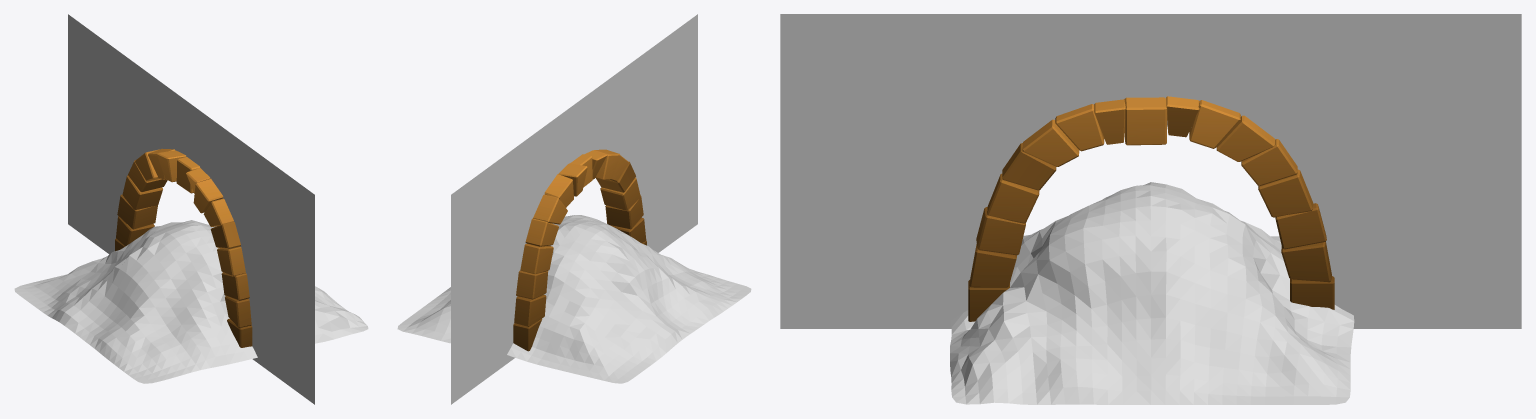
Rendered from GoldPile.fbx.
3 renders of one model, left to right at view 1: azimuth 30°, elevation 25°; view 2: azimuth 150°, elevation 25°; view 3: azimuth 270°, elevation 25°, orthographic. The views are drawn at different scales.
Visible parts, largest first — view 1: Plane.001, Plane, Cube.014, Cube.015, Cube.003, Cube.009, Cube.002, Cube.004, Cube.005, Cube.008, Cube.006, Cube.016 (+4 smaller); view 2: Plane.001, Plane, Cube.015, Cube.016, Cube.014, Cube.004, Cube.003, Cube.012, Cube.013, Cube.011, Cube.017, Cube.006 (+4 smaller); view 3: Plane.001, Plane, Cube.007, Cube.015, Cube.003, Cube.011, Cube.016, Cube.008, Cube.004, Cube.014, Cube.012, Cube.013 (+7 smaller).
Part boxes in pixels (bbox=[...]): Plane.001: bbox=[68, 14, 314, 404]; Plane: bbox=[14, 220, 368, 383]; Cube.014: bbox=[117, 194, 157, 229]; Cube.015: bbox=[122, 175, 162, 209]; Cube.003: bbox=[217, 246, 245, 276]; Cube.009: bbox=[193, 178, 223, 213]; Cube.002: bbox=[225, 296, 251, 327]; Cube.004: bbox=[221, 272, 249, 300]; Cube.005: bbox=[210, 222, 240, 248]; Cube.008: bbox=[203, 198, 233, 226]; Cube.006: bbox=[157, 150, 186, 182]; Cube.016: bbox=[116, 216, 154, 246]; Plane.001: bbox=[451, 14, 697, 404]; Plane: bbox=[397, 215, 751, 383]; Cube.015: bbox=[520, 243, 553, 273]; Cube.016: bbox=[514, 294, 546, 326]; Cube.014: bbox=[516, 270, 548, 299]; Cube.004: bbox=[605, 195, 643, 229]; Cube.003: bbox=[600, 177, 640, 210]; Cube.012: bbox=[533, 194, 567, 224]; Cube.013: bbox=[525, 218, 558, 246]; Cube.011: bbox=[544, 174, 573, 207]; Cube.017: bbox=[513, 319, 542, 351]; Cube.006: bbox=[558, 163, 587, 196]; Plane.001: bbox=[780, 14, 1521, 328]; Plane: bbox=[950, 182, 1354, 404]; Cube.007: bbox=[1124, 97, 1166, 145]; Cube.015: bbox=[1258, 169, 1313, 217]; Cube.003: bbox=[987, 173, 1039, 223]; Cube.011: bbox=[1189, 100, 1240, 148]; Cube.016: bbox=[1281, 241, 1331, 282]; Cube.008: bbox=[1022, 119, 1079, 166]; Cube.004: bbox=[976, 207, 1025, 255]; Cube.014: bbox=[1275, 203, 1326, 249]; Cube.012: bbox=[1216, 115, 1274, 161]; Cube.013: bbox=[1241, 139, 1297, 185].
Bounding box in the file's own units: 220 × 188 × 402.
